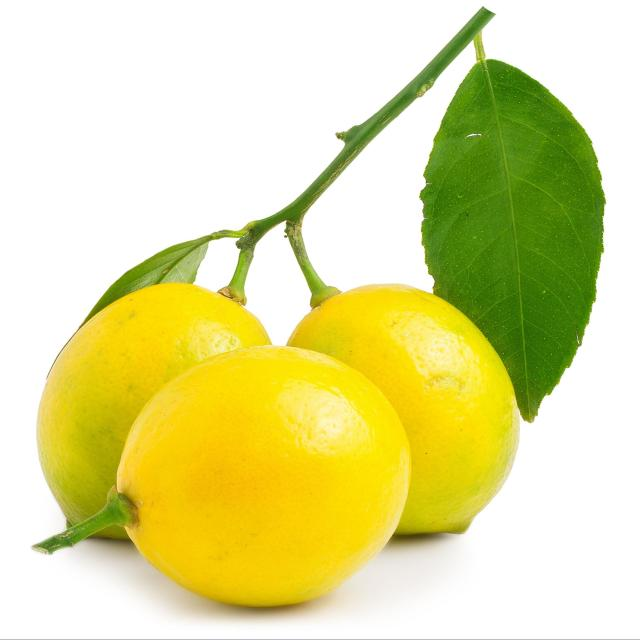lemon: (28, 342, 415, 618)
